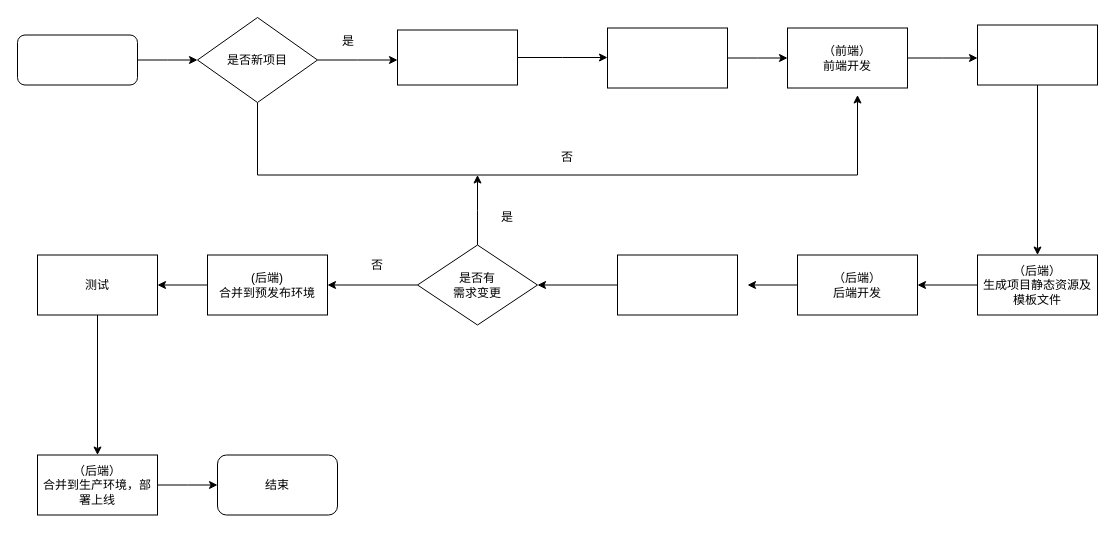
The diagram is 1115 pixels wide and 533 high, and some of its shapes have lost their labels. Each missing label, with the centre of its shape:
"(前端) 创建项目工程" belongs at pixel 667 57.
"(前端) 选择开发分支" belongs at pixel 457 57.
"开发完成" belongs at pixel 677 284.
"开始" belongs at pixel 77 59.
"（前端） 项目交付后端" belongs at pixel 1037 54.
